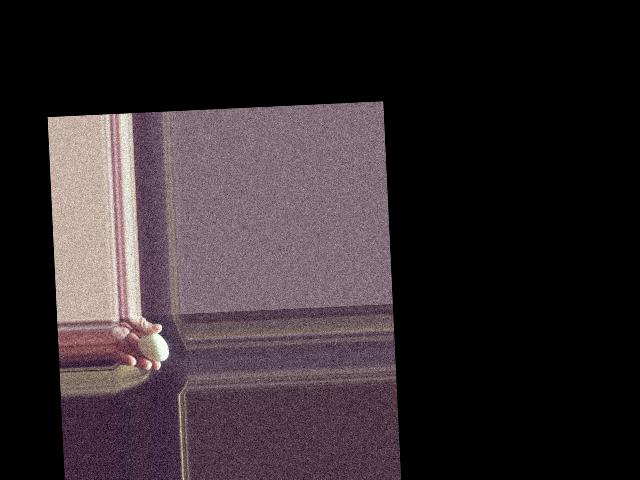egg: (138, 332, 169, 362)
